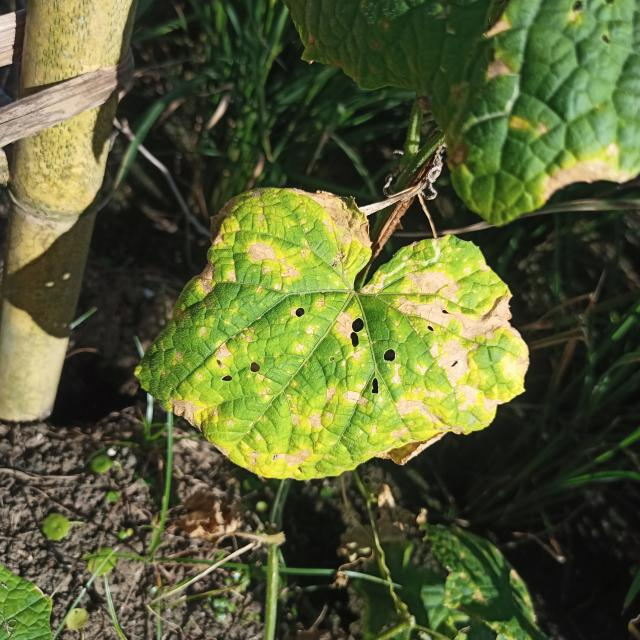disease_cucumber: (144, 187, 530, 481)
